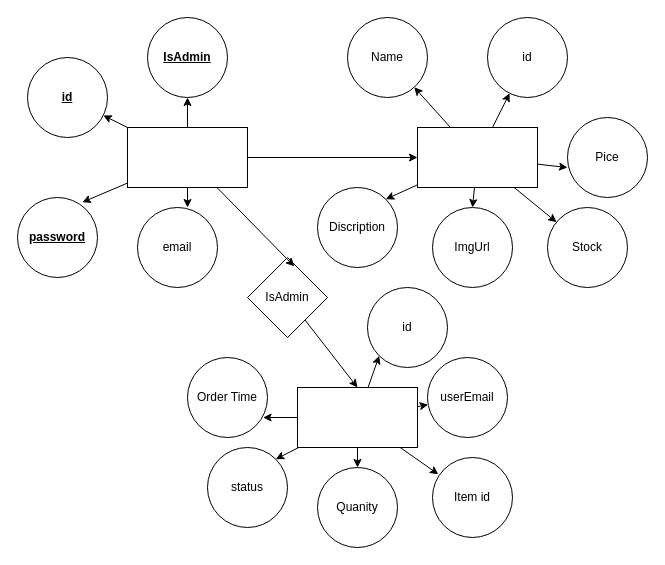
Image size: 665x565. Some labels were removed from this diagram. The shapes that lost their labels are listed below. From the top down, each one's centre as x and y in pixels, then its label:
At point (187, 157): "users".
At point (477, 157): "Items".
At point (357, 417): "Orders".
